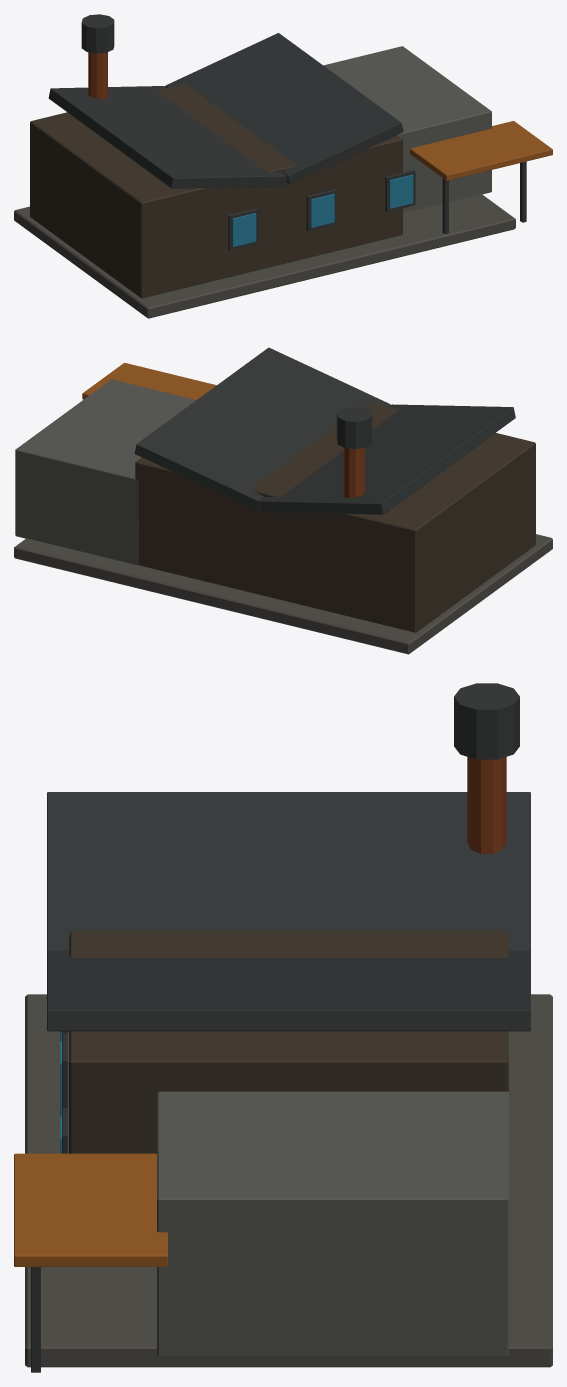
File: BrassMachinistWorkshop.glb
The picture shows the model from 3 angles, top to bottom: view 1: azimuth 30°, elevation 25°; view 2: azimuth 150°, elevation 25°; view 3: azimuth 270°, elevation 25°; orthographic projection. The views are drawn at different scales.
Visible parts, largest first — view 1: BrassMachinistWorkshop; view 2: BrassMachinistWorkshop; view 3: BrassMachinistWorkshop.
Part boxes in pixels (left/top/right/bottom): BrassMachinistWorkshop: left=14, top=14, right=552, bottom=318; BrassMachinistWorkshop: left=14, top=347, right=552, bottom=654; BrassMachinistWorkshop: left=14, top=683, right=552, bottom=1372.
Bounding box in the file's own units: 41.5 × 19.25 × 24.5.
Materials: 1 (1 with a texture image).
